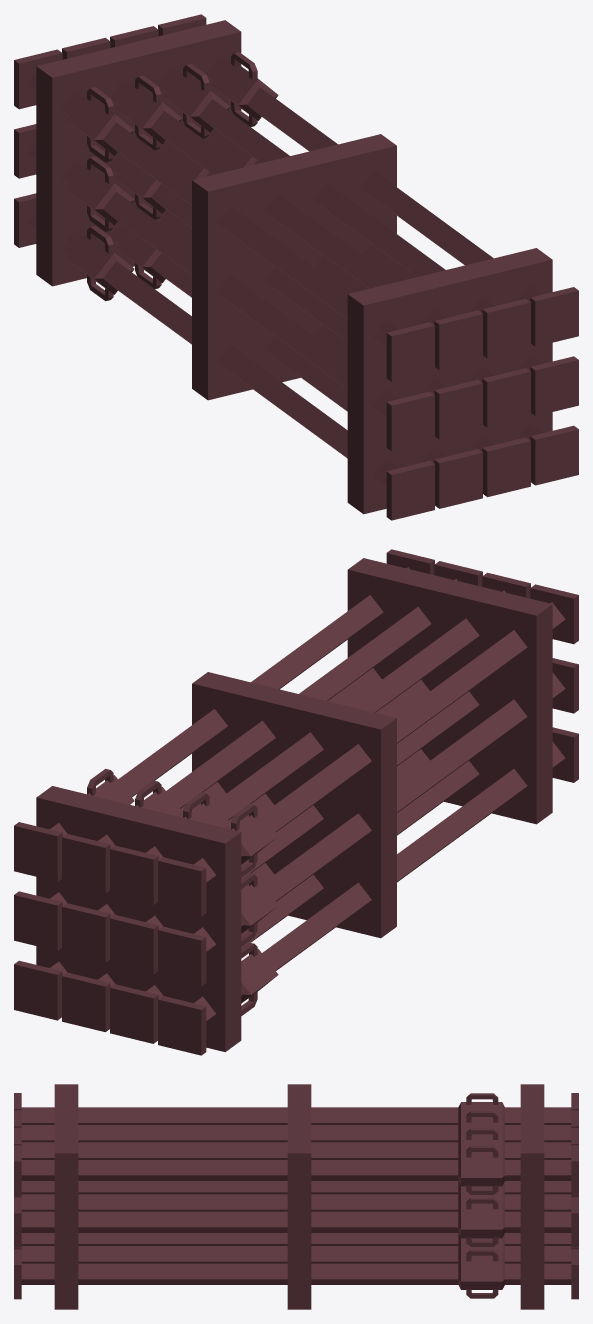
File: steel-prop-stack.fbx
3 views of the same model, one above another, from view 1: azimuth 30°, elevation 25°; view 2: azimuth 150°, elevation 25°; view 3: azimuth 270°, elevation 25° (orthographic). The views are drawn at different scales.
Parts seen in each view (by area): view 1: steel-prop-stack; view 2: steel-prop-stack; view 3: steel-prop-stack.
Boxes of the visible parts, left/top/right/bottom form: steel-prop-stack: left=14, top=14, right=578, bottom=520; steel-prop-stack: left=14, top=549, right=578, bottom=1055; steel-prop-stack: left=14, top=1084, right=578, bottom=1309.
Size of the model in its own units: 0.8668 by 0.9149 by 3.
